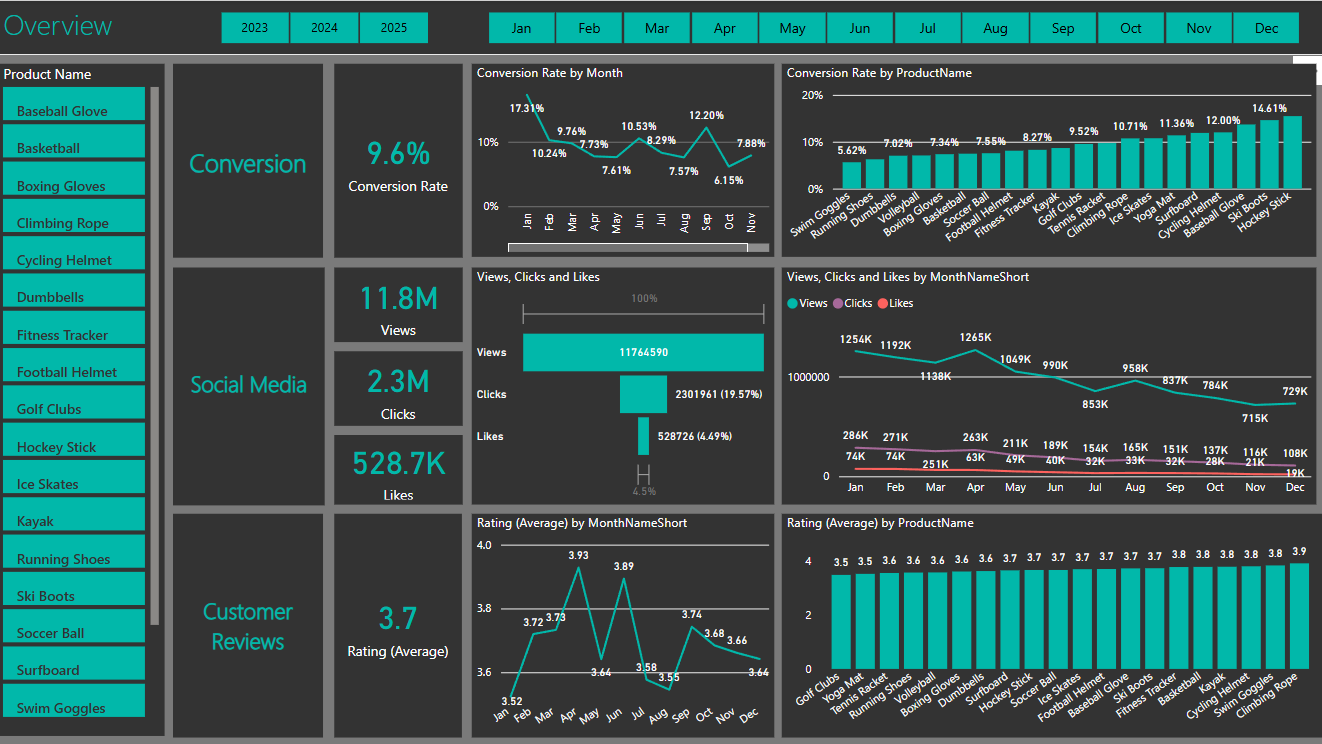

The page's visual inventory and layout, read from the dashboard file:
{"tool":"powerbi","page":{"name":"Dashboard","canvas":[1280,720],"ordinal":0},"visuals":[{"type":"advancedSlicerVisual","title":"Product Name","fields":{"Values":["dim_products.ProductName"]},"box":[0,61.5,160.5,649.1],"z":0},{"type":"textbox","box":[0,0,1280,52.6],"z":1000},{"type":"slicer","fields":{"Values":["Calendar.Year"]},"box":[189.4,4.6,249.5,43.7],"z":2000},{"type":"slicer","fields":{"Values":["Calendar.MonthNameShort"]},"box":[447.7,4.6,832.3,43.7],"z":3000},{"type":"textbox","box":[168.9,61.5,144.8,187],"z":4000},{"type":"textbox","box":[168.5,257.7,146.6,229.5],"z":5000},{"type":"textbox","box":[168.9,495.8,144.8,216],"z":6000},{"type":"card","fields":{"Values":["_Calculations.Conversion Rate"]},"box":[324.1,61.9,123.9,186.8],"z":7000},{"type":"card","fields":{"Values":["_Calculations.Rating (Average)"]},"box":[324.5,495.8,123.1,216],"z":8000},{"type":"card","fields":{"Values":["_Calculations.Views"]},"box":[324.2,257.7,123.8,71.9],"z":9000},{"type":"card","fields":{"Values":["_Calculations.Clicks"]},"box":[324.2,338.8,123.8,71.9],"z":10000},{"type":"card","fields":{"Values":["_Calculations.Likes"]},"box":[324.2,419.8,123.8,67.4],"z":11000},{"type":"lineChart","title":"Conversion Rate by Month","fields":{"Y":["_Calculations.Conversion Rate"],"Category":["Calendar.MonthNameShort"]},"box":[457.1,61.9,292.3,186.7],"z":12000},{"type":"lineChart","fields":{"Category":["Calendar.MonthNameShort"],"Y":["_Calculations.Rating (Average)"]},"box":[457.2,495.8,292,216],"z":13000},{"type":"funnel","fields":{"Y":["_Calculations.Views","_Calculations.Clicks","_Calculations.Likes"]},"box":[457.3,258.1,292.1,229.2],"z":14000},{"type":"columnChart","fields":{"Category":["dim_products.ProductName"],"Y":["_Calculations.Conversion Rate"]},"box":[756.7,61.9,516.3,186.7],"z":15000},{"type":"lineChart","fields":{"Y":["_Calculations.Views","_Calculations.Clicks","_Calculations.Likes"],"Category":["Calendar.MonthNameShort"]},"box":[756.6,258.1,516.1,229.2],"z":16000},{"type":"columnChart","fields":{"Category":["dim_products.ProductName"],"Y":["_Calculations.Rating (Average)"]},"box":[756.4,495.8,523.6,216],"z":17000}]}

Visuals, with their boxes in screenshot pixels (x1, y1, x2, y2), scaled from the page's 1280x720 canvas onto the 1322x744 screenshot:
"Product Name" advancedSlicerVisual: (0,64,166,734)
textbox: (0,0,1321,54)
slicer - Calendar.Year: (196,5,453,50)
slicer - Calendar.MonthNameShort: (462,5,1321,50)
textbox: (174,64,324,257)
textbox: (174,266,325,503)
textbox: (174,512,324,736)
card - _Calculations.Conversion Rate: (335,64,463,257)
card - _Calculations.Rating (Average): (335,512,462,736)
card - _Calculations.Views: (335,266,463,341)
card - _Calculations.Clicks: (335,350,463,424)
card - _Calculations.Likes: (335,434,463,503)
"Conversion Rate by Month" lineChart: (472,64,774,257)
lineChart - Calendar.MonthNameShort x _Calculations.Rating (Average): (472,512,774,736)
funnel - _Calculations.Views x _Calculations.Clicks: (472,267,774,504)
columnChart - dim_products.ProductName x _Calculations.Conversion Rate: (782,64,1315,257)
lineChart - _Calculations.Views x _Calculations.Clicks: (781,267,1314,504)
columnChart - dim_products.ProductName x _Calculations.Rating (Average): (781,512,1321,736)
